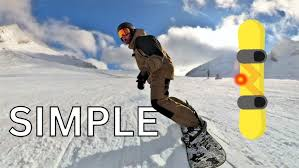snowboard: (236, 19, 268, 140), (177, 114, 227, 167)
